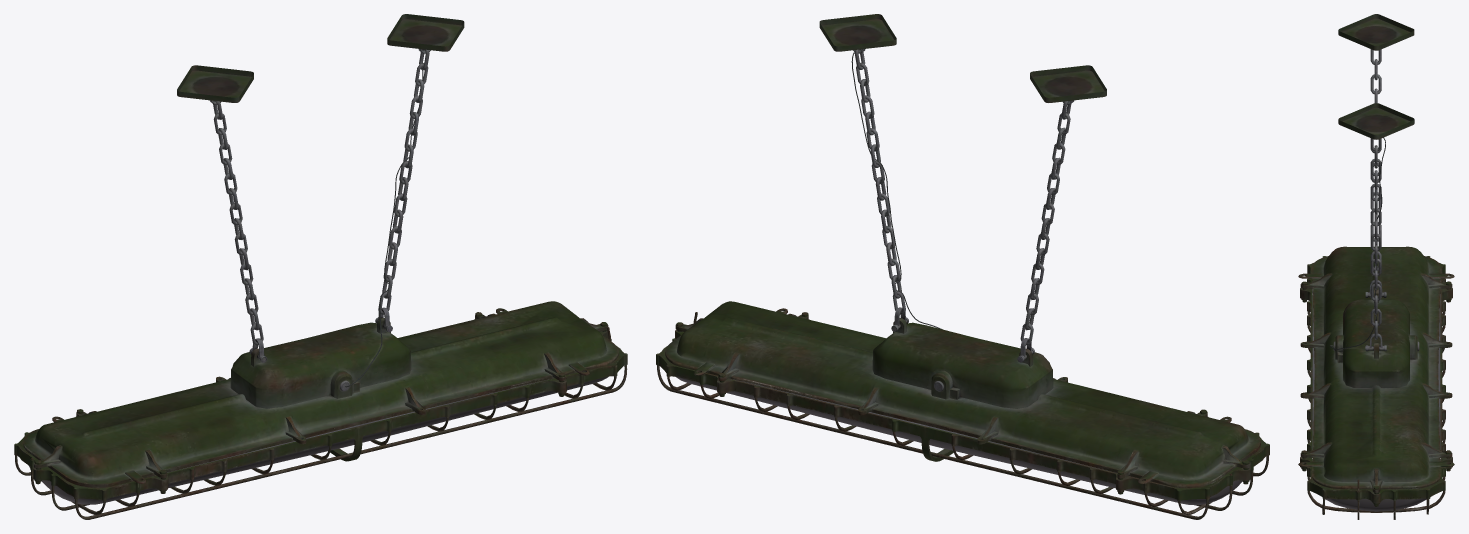
File: caged_hanging_light.glb
3 renders of one model, left to right at view 1: azimuth 30°, elevation 25°; view 2: azimuth 150°, elevation 25°; view 3: azimuth 270°, elevation 25°, orthographic. The views are drawn at different scales.
Parts seen in each view (by area): view 1: caged_hanging_light; view 2: caged_hanging_light; view 3: caged_hanging_light.
Part boxes in pixels (<box>): caged_hanging_light: <box>14,14,627,519</box>; caged_hanging_light: <box>656,14,1269,519</box>; caged_hanging_light: <box>1298,14,1454,519</box>.
Bounding box in the file's own units: 1.16 × 0.7501 × 0.3149.
1 material, 1 textured.
